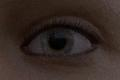eye: (41, 27, 74, 55)
